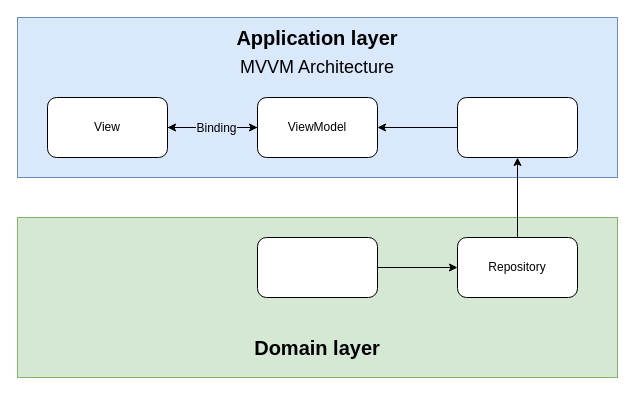
The diagram is 635 pixels wide and 395 high, and some of its shapes have lost their labels. The shapes that lost their labels are listed below. From the top down, each one's box as (x1, y1, x2, y2) in pixels, then its label:
(456, 96, 578, 158): Model
(256, 236, 378, 298): APIClient
